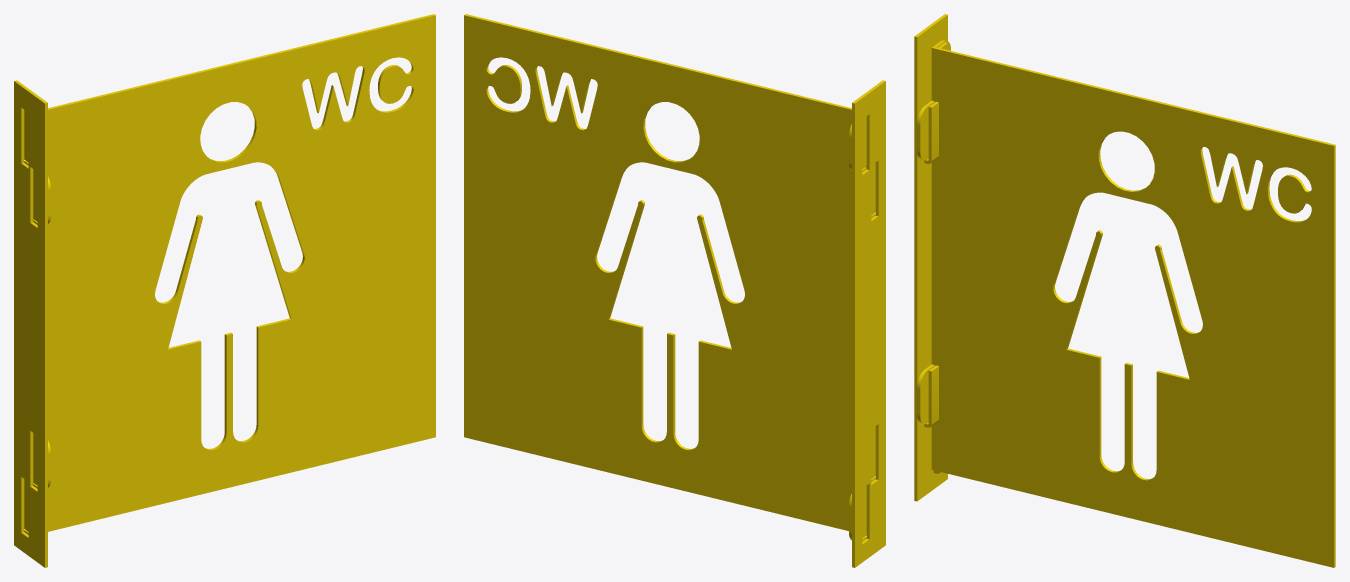
3 renders of one model, left to right at view 1: azimuth 30°, elevation 25°; view 2: azimuth 150°, elevation 25°; view 3: azimuth 330°, elevation 25°, orthographic.
Parts seen in each view (by area): view 1: group_0.004, group_1, group_0, group_2; view 2: group_0.004, group_1, group_0, group_2; view 3: group_0.004, group_1, group_2, group_0, group_1.004, group_1.003.
Part boxes in pixels (x1,y1,x2,y2): group_0.004: (33,14,435,531); group_1: (14,80,47,567); group_0: (158,167,304,450); group_2: (24,110,50,531); group_0.004: (464,14,866,530); group_1: (852,80,885,567); group_0: (595,167,741,450); group_2: (849,116,875,540); group_0.004: (931,47,1335,567); group_1: (914,14,947,501); group_2: (917,40,950,470); group_0: (1053,197,1199,480); group_1.004: (924,101,938,163); group_1.003: (924,365,938,427).
Bounding box in the file's own units: 0.4021 × 0.4401 × 0.053.
